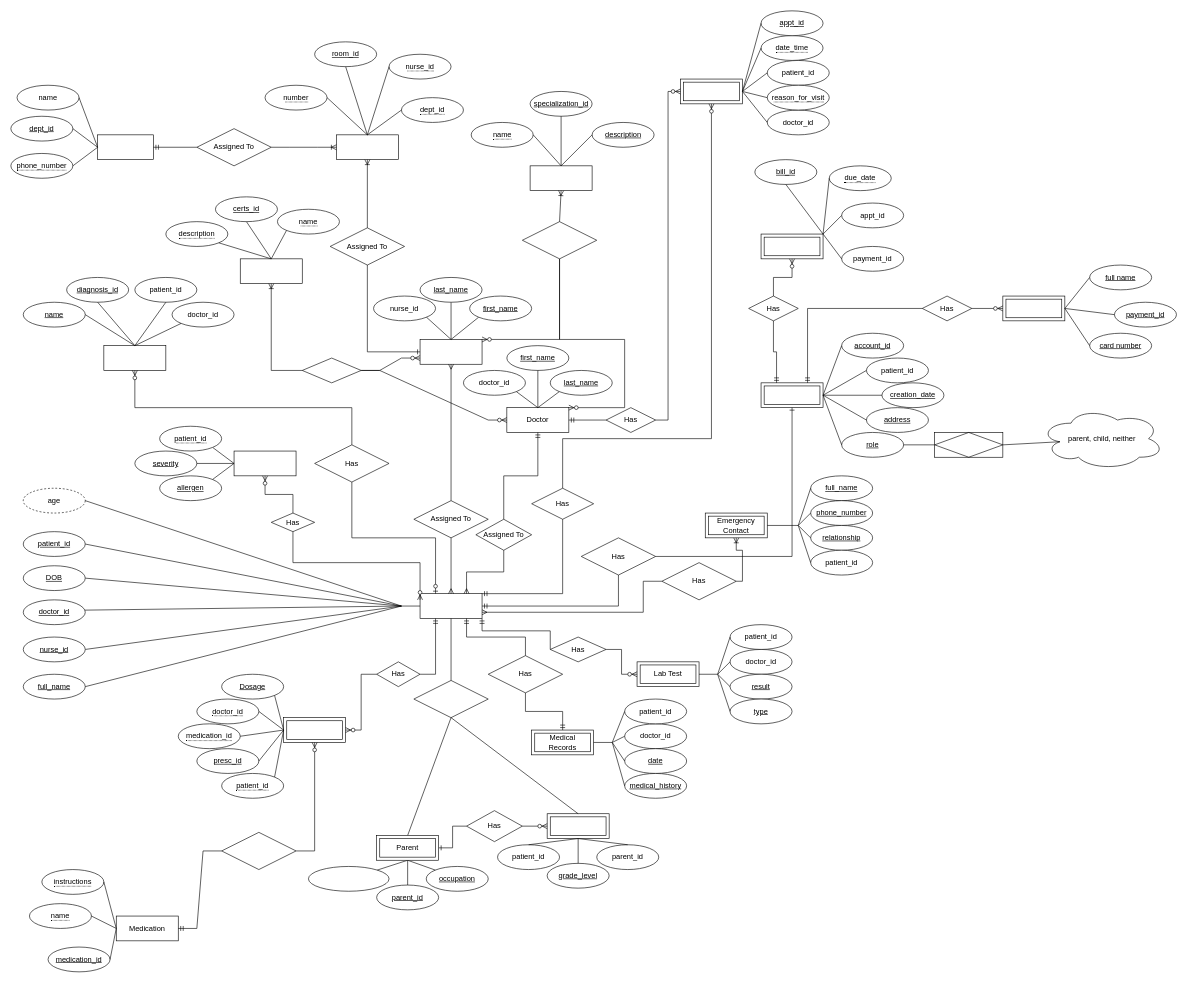
Image size: 1187x983. Some labels were removed from this diagram. Each missing label, with the centre of its shape:
Account: the point at 791,395
Acquires: the point at 331,370
Allergies: the point at 264,463
Appointment: the point at 711,91
Bill: the point at 791,246
Certifications: the point at 271,271
Child: the point at 578,826
Department: the point at 125,147
Diagnosis: the point at 134,357
Includes: the point at 258,851
ISA: the point at 450,699
Nurse: the point at 450,351
Patient: the point at 450,605
Payment: the point at 1033,308
Performs: the point at 559,240
Prescription: the point at 314,729
relationship_to_child: the point at 348,878
Roles: the point at 968,444
Room: the point at 367,147
Specialization: the point at 560,178
